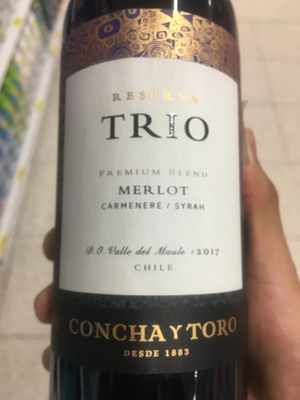trio merlot: (53, 4, 259, 387)
